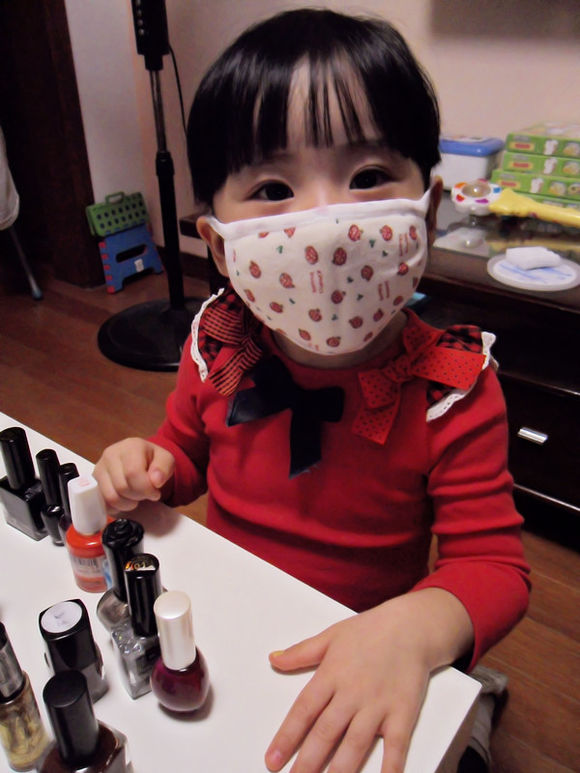face_mask: (220, 53, 428, 351)
